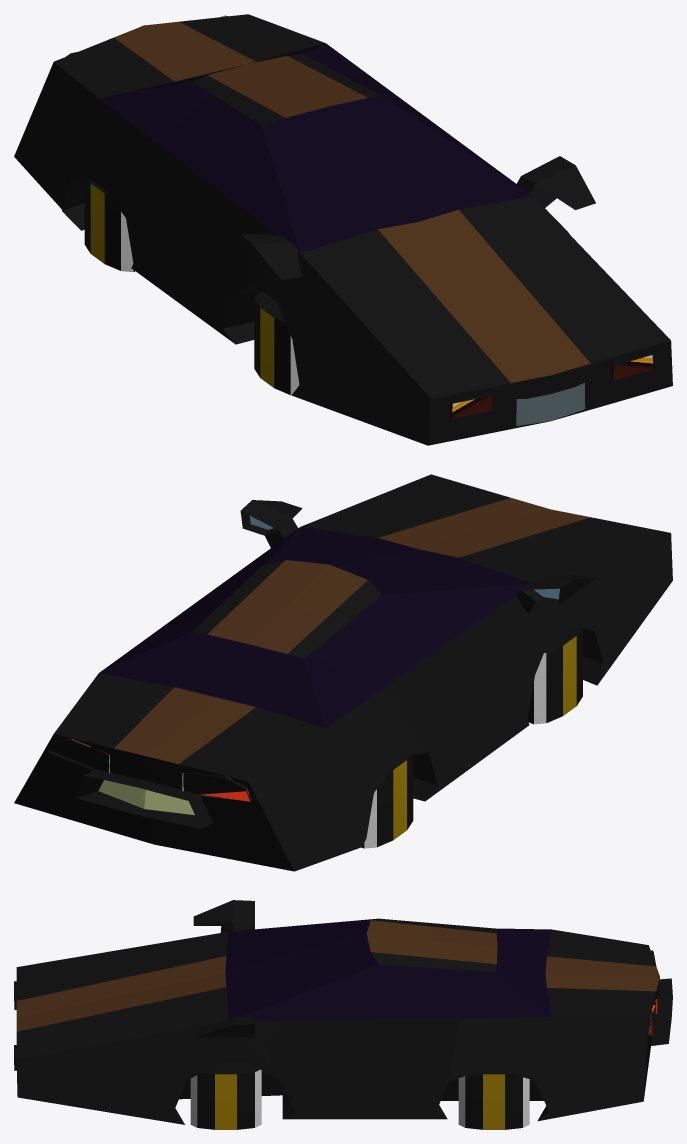
Rendered from DeLores.fbx.
3 renders of one model, top to bottom at view 1: azimuth 30°, elevation 25°; view 2: azimuth 150°, elevation 25°; view 3: azimuth 270°, elevation 25°, orthographic. The views are drawn at different scales.
Parts seen in each view (by area): view 1: Cube; view 2: Cube; view 3: Cube.
Boxes of the visible parts, <box> form: Cube: <box>14,14,672,445</box>; Cube: <box>14,474,672,871</box>; Cube: <box>14,900,672,1129</box>.
Size of the model in its own units: 266 by 137 by 594.
